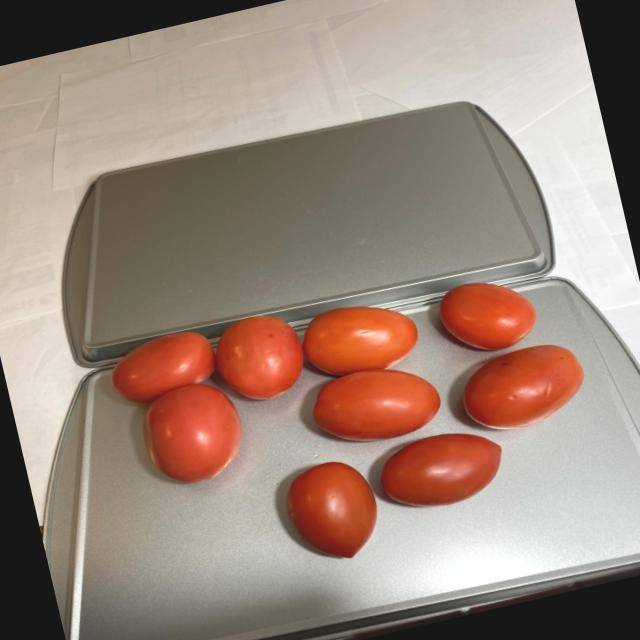tomato: (102, 246, 614, 603)
